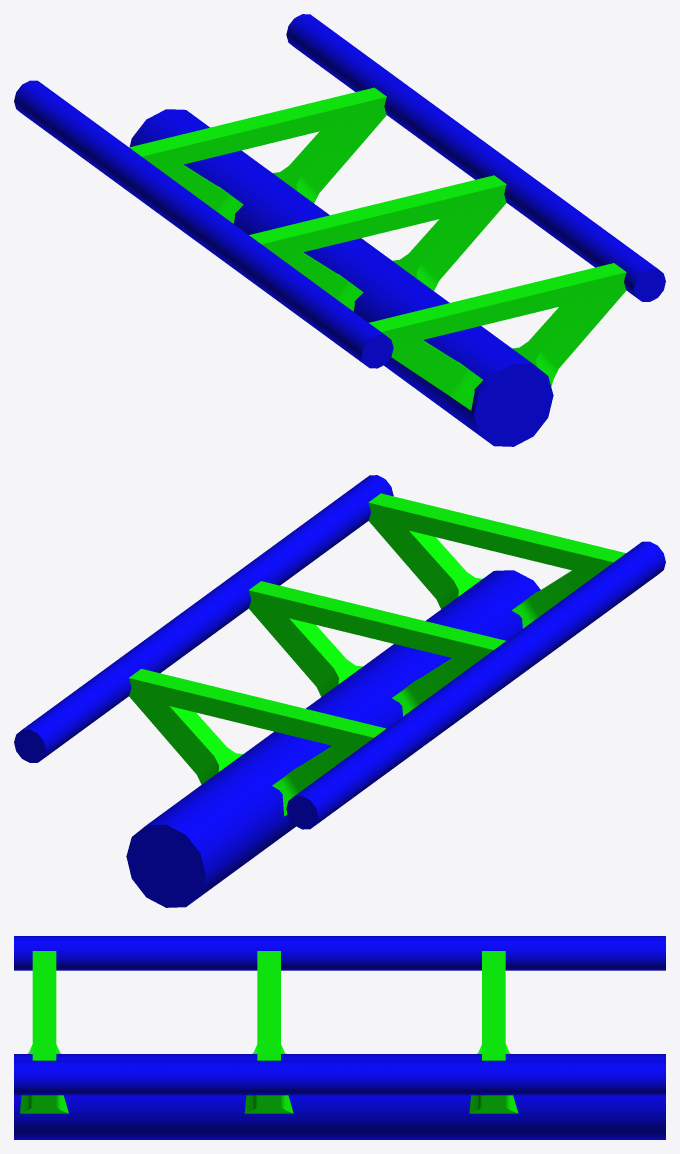
Rendered from axis_track_MOCKUP.fbx.
3 renders of one model, top to bottom at view 1: azimuth 30°, elevation 25°; view 2: azimuth 150°, elevation 25°; view 3: azimuth 270°, elevation 25°, orthographic. The views are drawn at different scales.
Visible parts, largest first — view 1: axis_track_MOCKUP; view 2: axis_track_MOCKUP; view 3: axis_track_MOCKUP.
Boxes of the visible parts, left/top/right/bottom form: axis_track_MOCKUP: left=14, top=14, right=665, bottom=446; axis_track_MOCKUP: left=14, top=475, right=665, bottom=907; axis_track_MOCKUP: left=14, top=936, right=665, bottom=1139.
Size of the model in its own units: 0.5057 by 0.2304 by 1.
